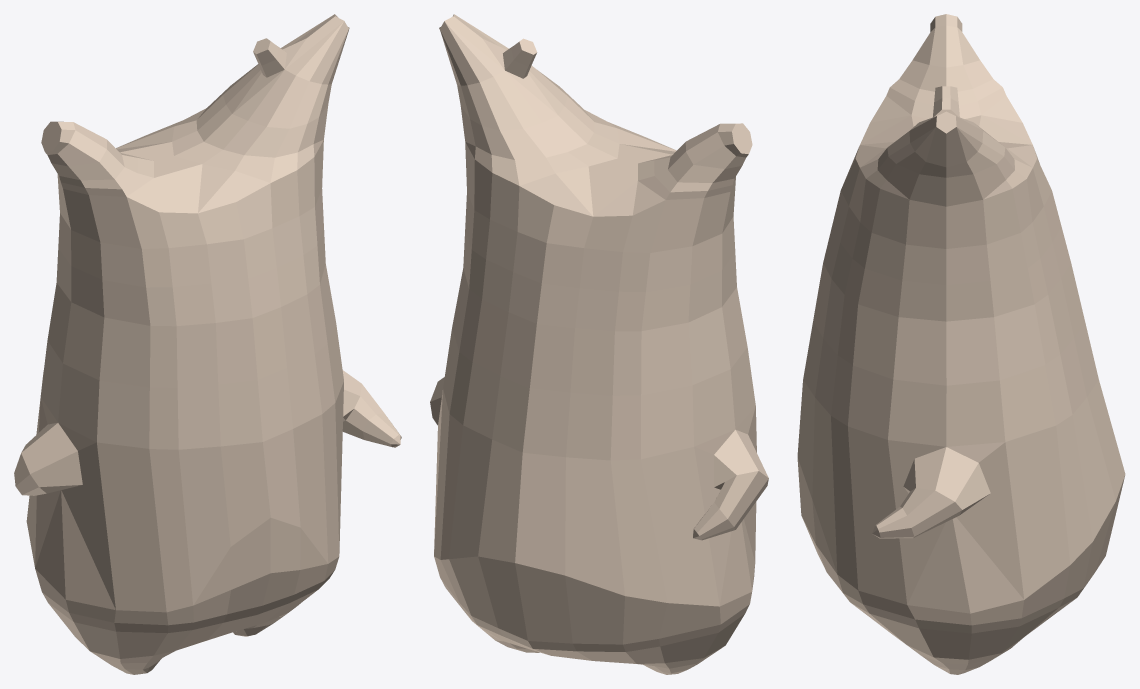
The model's file is frame_0042.obj.
The picture shows the model from 3 angles, left to right: view 1: azimuth 30°, elevation 25°; view 2: azimuth 150°, elevation 25°; view 3: azimuth 270°, elevation 25°; orthographic projection.
Visible parts, largest first — view 1: korok; view 2: korok; view 3: korok.
Part boxes in pixels (<box>): korok: <box>14,14,401,674</box>; korok: <box>430,14,768,674</box>; korok: <box>797,14,1125,674</box>.
Size of the model in its own units: 1.28 by 2.16 by 1.06.
